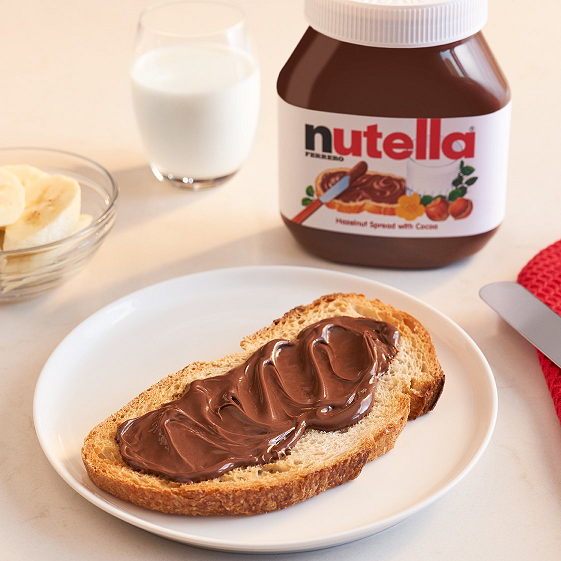nutella: (277, 1, 514, 267)
